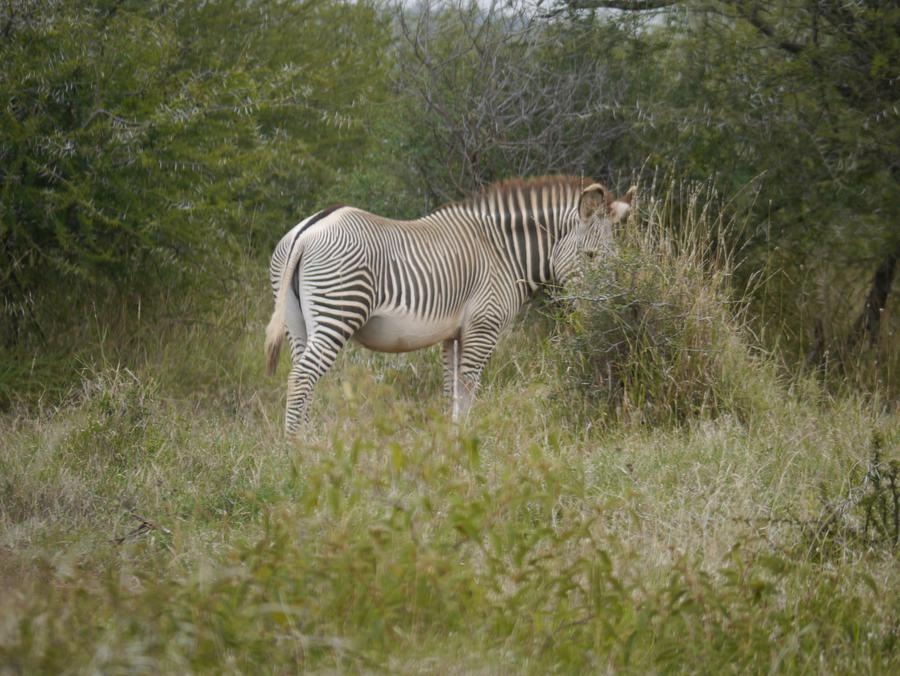zebra_grevys: (274, 206, 504, 339)
